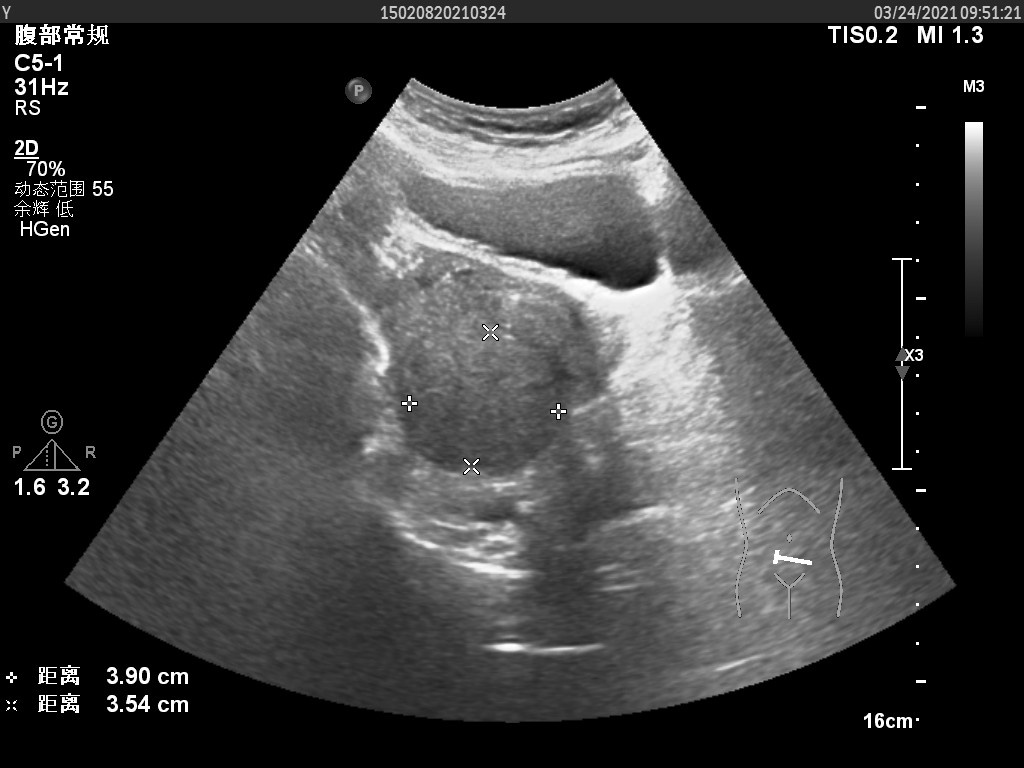肌瘤: (413, 332, 560, 468)
